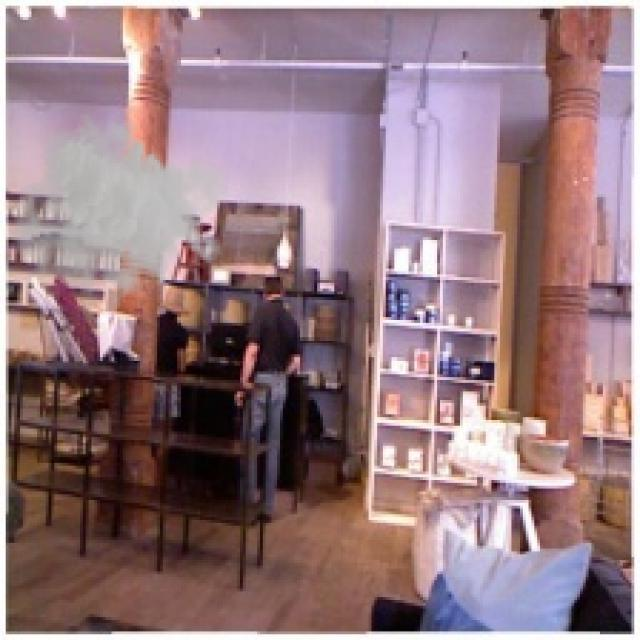Smoke: (12, 111, 232, 320)
